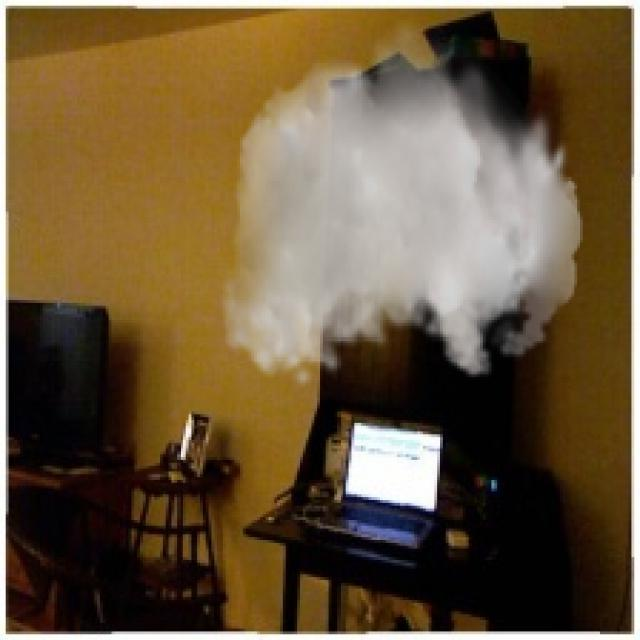Smoke: (220, 11, 583, 392)
